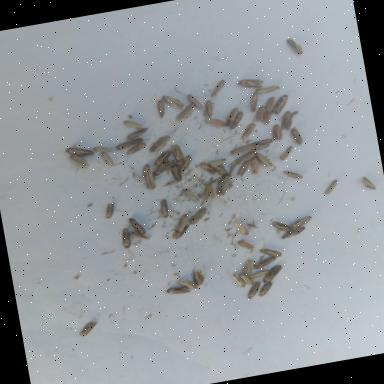pbw: (228, 150, 260, 170), (259, 263, 284, 284), (148, 133, 175, 152), (139, 163, 157, 191), (162, 90, 184, 112), (284, 35, 306, 57), (237, 74, 266, 90), (270, 93, 291, 115), (215, 174, 235, 196), (100, 148, 122, 168), (70, 151, 92, 170), (152, 150, 178, 166), (280, 226, 307, 241), (278, 109, 297, 130), (232, 159, 253, 178), (151, 159, 172, 178), (229, 142, 257, 156), (126, 124, 149, 141), (76, 320, 99, 337), (176, 275, 199, 292), (116, 138, 146, 151), (254, 150, 274, 169), (176, 154, 196, 173), (172, 213, 192, 232), (211, 78, 230, 98), (188, 206, 209, 224), (223, 106, 242, 125), (128, 216, 146, 236), (188, 267, 206, 287), (229, 110, 248, 128), (201, 182, 218, 202), (240, 258, 257, 278), (171, 224, 192, 240), (166, 284, 191, 297), (245, 280, 263, 298), (240, 122, 258, 140), (188, 92, 206, 110), (257, 280, 275, 298), (206, 116, 226, 132), (128, 229, 150, 243), (124, 117, 146, 131), (282, 168, 304, 182), (272, 218, 291, 234), (176, 104, 196, 119), (198, 160, 216, 176), (126, 142, 148, 155), (202, 98, 216, 118), (270, 122, 284, 142), (171, 142, 185, 162), (291, 216, 314, 228), (251, 105, 267, 122), (321, 180, 339, 195), (263, 94, 278, 112), (171, 164, 186, 182), (120, 227, 132, 249), (260, 246, 282, 258), (256, 84, 282, 94), (257, 256, 277, 269), (278, 146, 294, 162), (158, 198, 170, 218), (155, 98, 167, 118), (231, 272, 246, 288), (184, 186, 199, 202), (234, 219, 248, 236), (237, 237, 255, 250), (213, 162, 229, 176), (94, 142, 113, 153), (104, 202, 116, 219), (248, 92, 258, 112), (252, 137, 274, 146), (291, 128, 302, 145), (252, 143, 270, 153), (250, 156, 260, 174), (263, 109, 274, 125), (210, 157, 224, 168), (364, 176, 374, 190)
